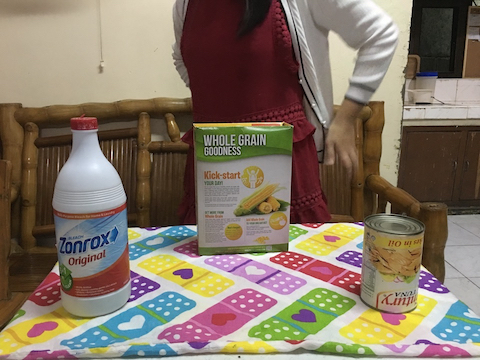bottle: (53, 113, 138, 319)
box: (191, 120, 299, 259)
can: (356, 211, 431, 315)
